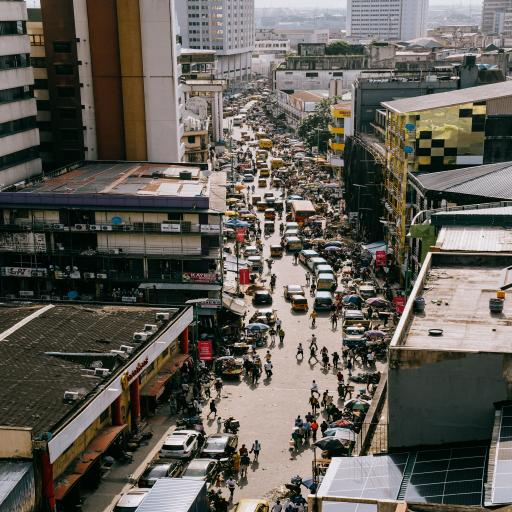car: (138, 460, 183, 487), (159, 431, 198, 458), (200, 433, 238, 459), (182, 459, 220, 483), (113, 488, 150, 511), (233, 499, 269, 511), (284, 285, 305, 299), (257, 309, 277, 323), (358, 283, 376, 298), (247, 256, 264, 271), (254, 291, 272, 304), (245, 246, 259, 257), (243, 174, 253, 182), (264, 193, 274, 199)
